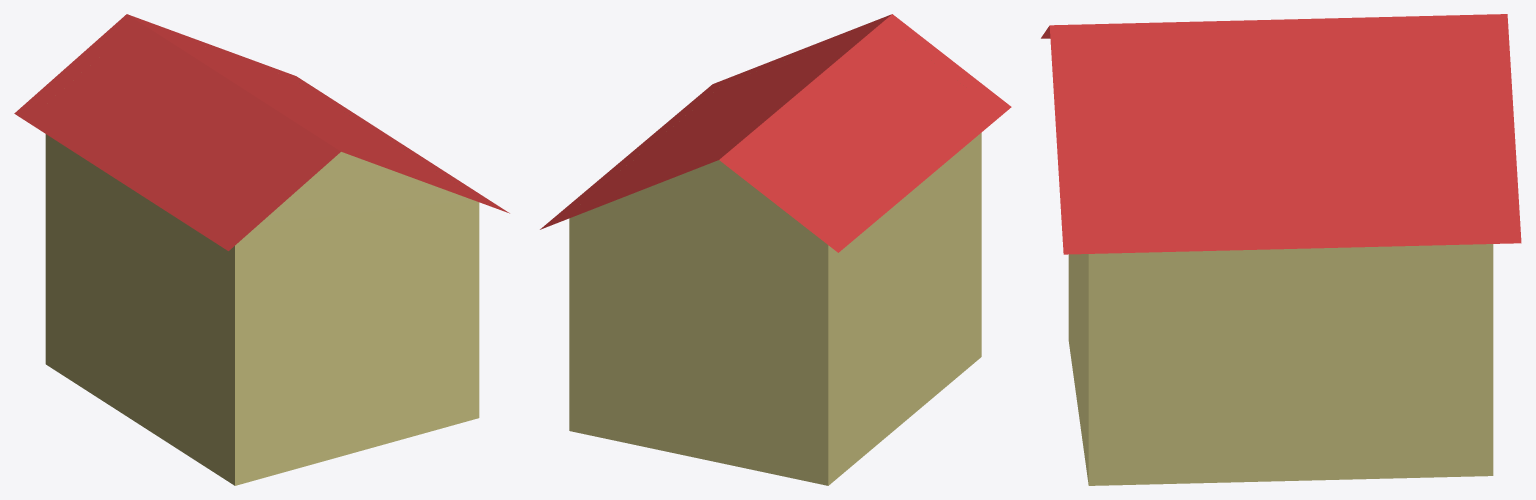
3 views of the same model, side by side, from view 1: azimuth 30°, elevation 25°; view 2: azimuth 150°, elevation 25°; view 3: azimuth 270°, elevation 25° (orthographic). The views are drawn at different scales.
Bounding box in the file's own units: 7.92 × 9 × 7.68.
